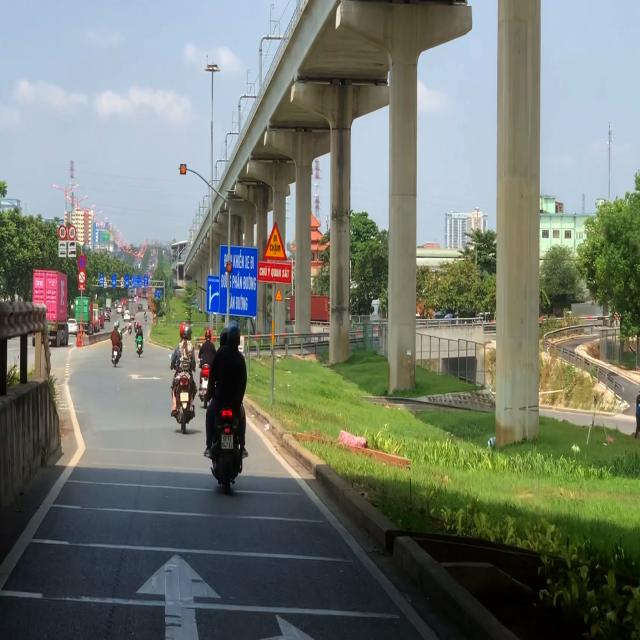Cam dung va do: (78, 253, 86, 270)
Nguy hiem: (261, 220, 288, 261)
Toc do toi da: (68, 225, 76, 240), (59, 226, 67, 240)
